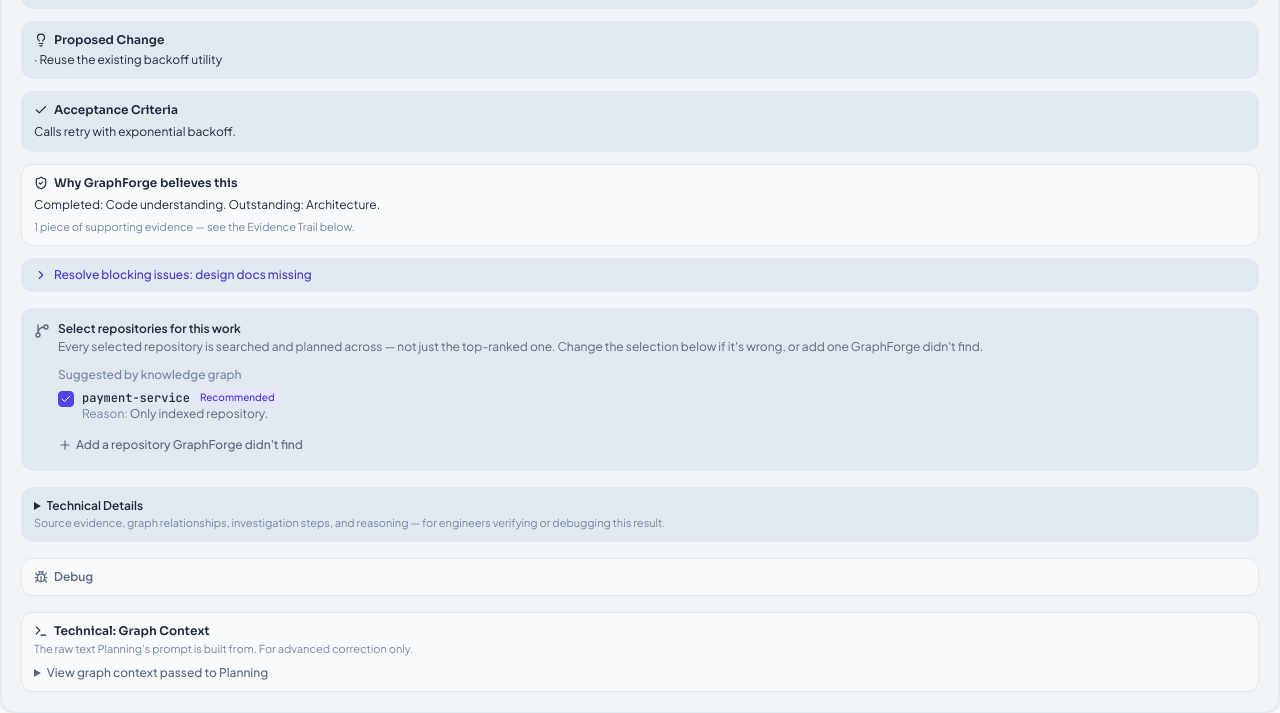
Test: ContextExplorerPanel › shows raw gaps, graph traversal, and the raw payload inside Debug
The image size is (1280, 713).
(page scrolled)
Click the heading "Debug" at (64, 576), box 34,569 -> 93,584
(page scrolled)
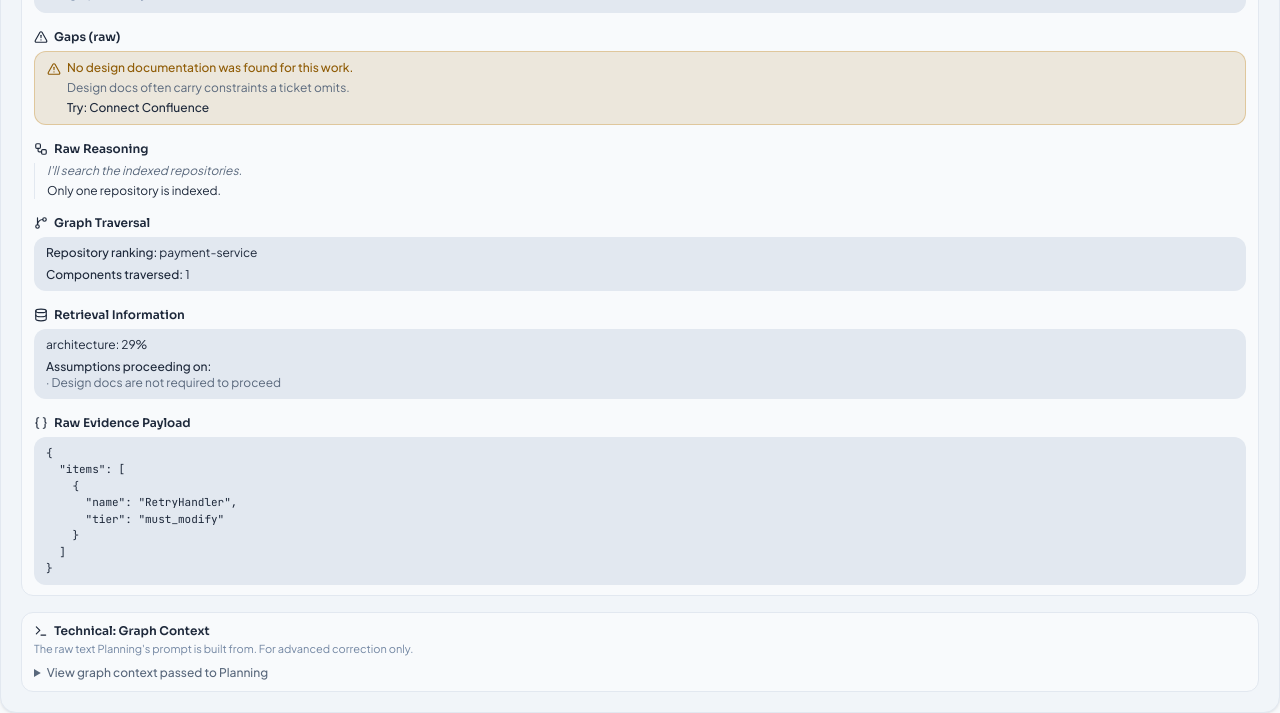
Expected: the text "No design documentation was found for this work." is shown, 47,60 -> 353,76
Expected: the text "Design docs often carry constraints a ticket omits." is shown, 67,80 -> 350,95
Expected: the text "Try: Connect Confluence" is shown, 67,100 -> 209,115
